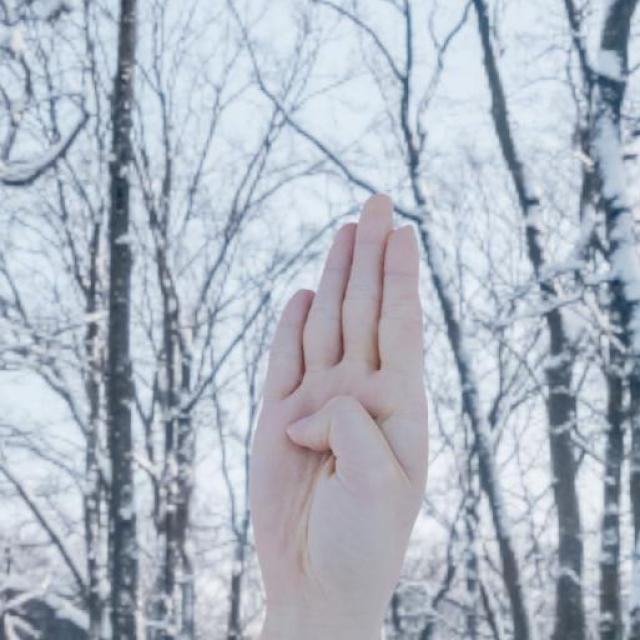B: (248, 190, 434, 590)
